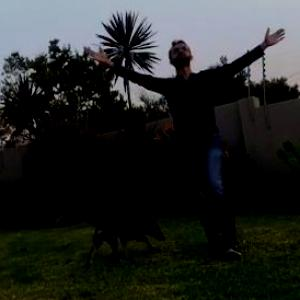takeoff: (104, 41, 281, 243)
